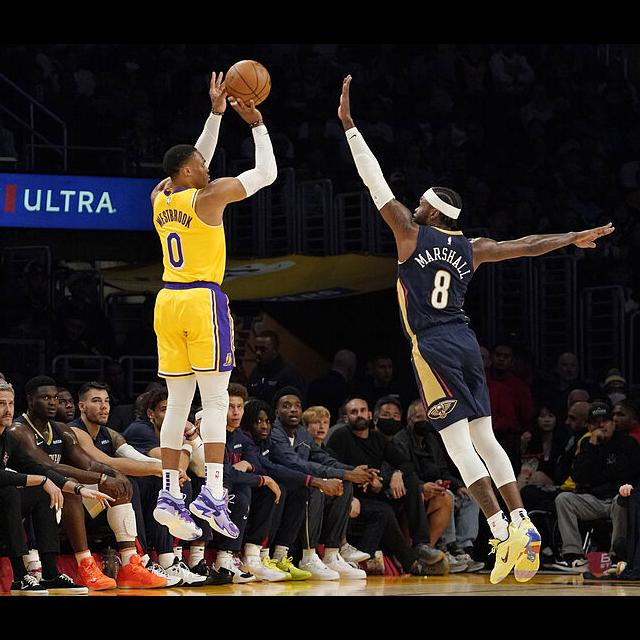basketball: (225, 59, 270, 107)
